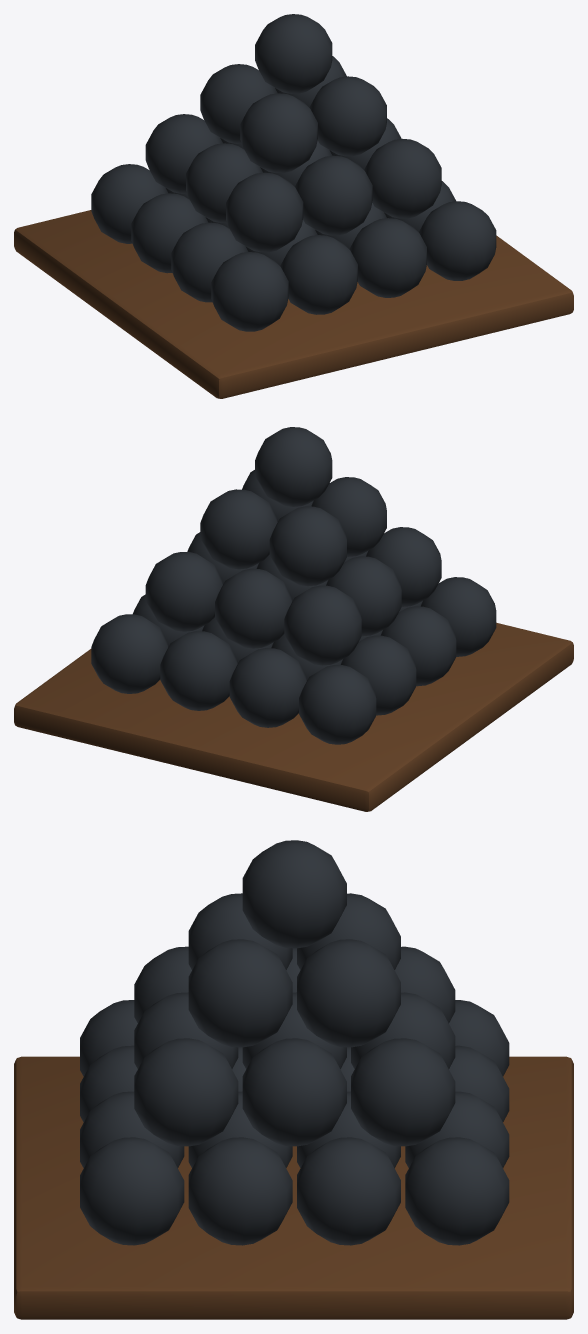
File: CannonballPile.fbx
3 renders of one model, top to bottom at view 1: azimuth 30°, elevation 25°; view 2: azimuth 150°, elevation 25°; view 3: azimuth 270°, elevation 25°, orthographic. The views are drawn at different scales.
Parts seen in each view (by area): view 1: CannonballPile; view 2: CannonballPile; view 3: CannonballPile.
Boxes of the visible parts, box(x1,y1,x2,y2) form: CannonballPile: box(14, 14, 573, 398); CannonballPile: box(14, 427, 573, 811); CannonballPile: box(14, 840, 573, 1319).
Size of the model in its own units: 0.62 by 0.439 by 0.62.
